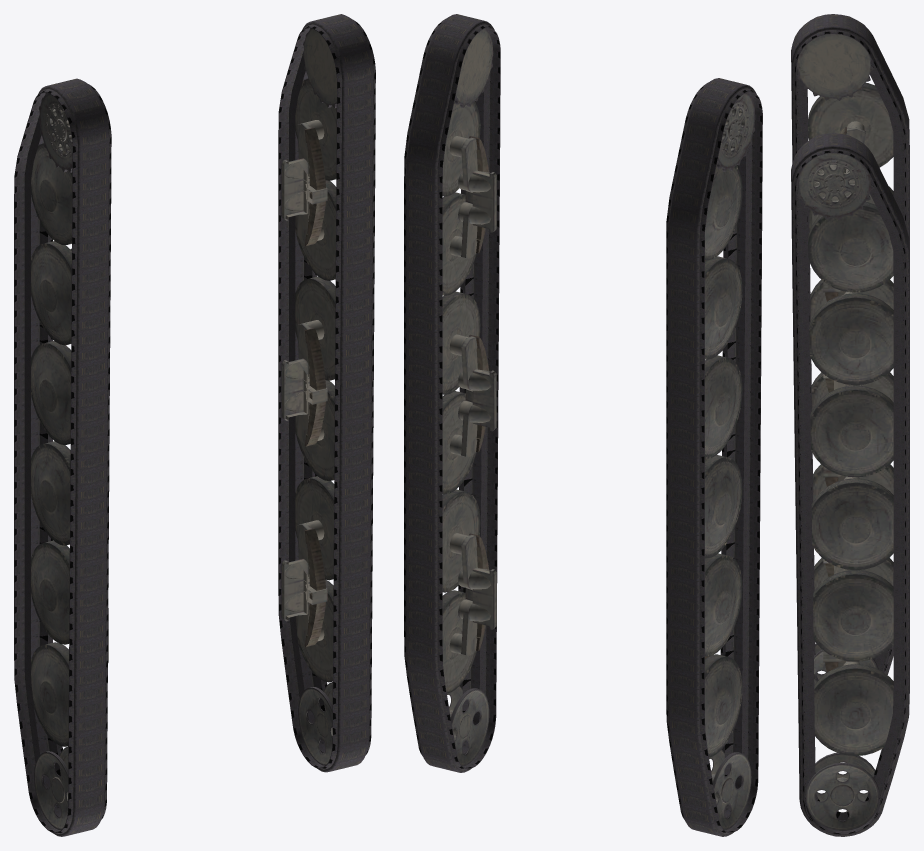
The model's file is Chassis.glb.
The picture shows the model from 3 angles, left to right: view 1: azimuth 30°, elevation 25°; view 2: azimuth 150°, elevation 25°; view 3: azimuth 270°, elevation 25°; orthographic projection. The views are drawn at different scales.
Parts seen in each view (by area): view 1: set_0_group_0, set_1_group_0, set_3_group_0, set_2_group_0; view 2: set_0_group_0, set_1_group_0, set_3_group_0, set_2_group_0; view 3: set_3_group_0, set_1_group_0, set_2_group_0, set_0_group_0.
Part boxes in pixels (bbox=[...]): set_0_group_0: bbox=[14, 78, 111, 836]; set_1_group_0: bbox=[278, 14, 375, 772]; set_3_group_0: bbox=[281, 28, 336, 765]; set_2_group_0: bbox=[31, 93, 108, 829]; set_0_group_0: bbox=[666, 78, 762, 836]; set_1_group_0: bbox=[404, 14, 500, 772]; set_3_group_0: bbox=[442, 28, 496, 766]; set_2_group_0: bbox=[705, 92, 755, 830]; set_3_group_0: bbox=[797, 153, 893, 831]; set_1_group_0: bbox=[791, 133, 909, 836]; set_2_group_0: bbox=[797, 34, 893, 684]; set_0_group_0: bbox=[791, 14, 909, 680].
Size of the model in its own units: 2.76 by 6.52 by 1.01.
4 materials, 4 textured.
